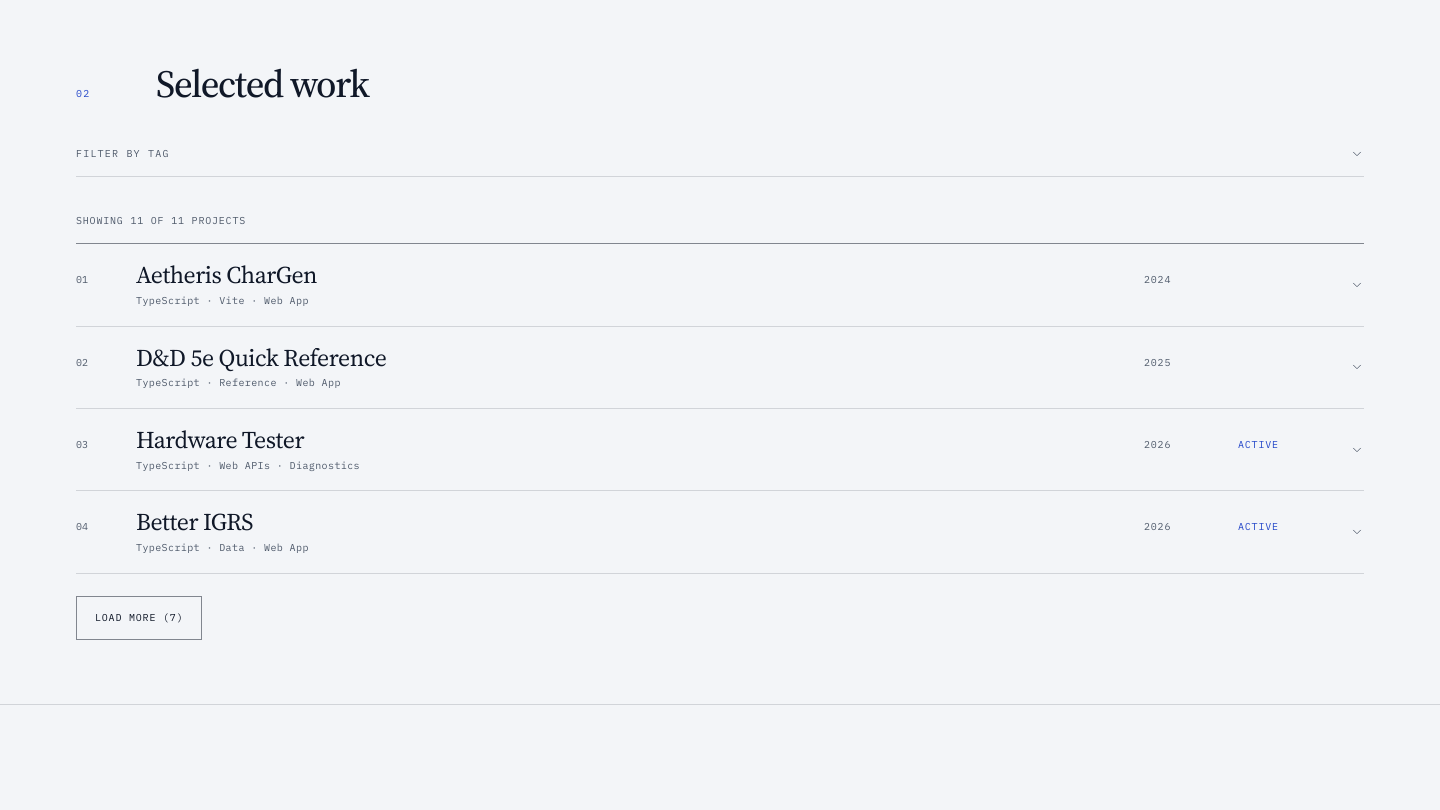
Scenario: project filtering › renders filter chips for each unique tag after opening the disclosure
The image size is (1440, 810).
Step 1. Click the button "Filter by tag" → (123, 154), box [76,132,1364,176]
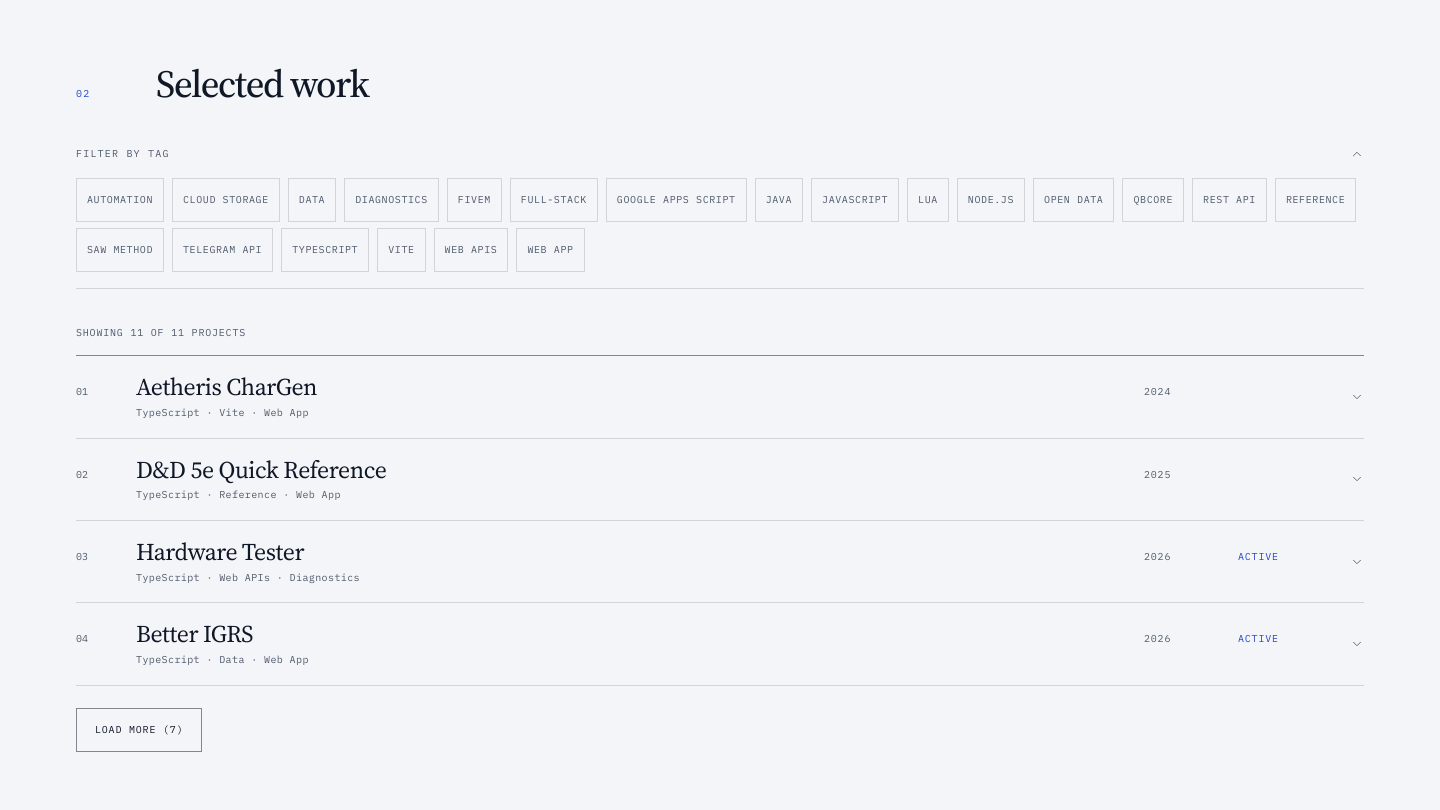
Result: the button "TypeScript" is shown at [281,228,369,272]
Result: the button "Lua" is shown at [907,178,949,222]
Result: the button "Java" is shown at [755,178,803,222]
